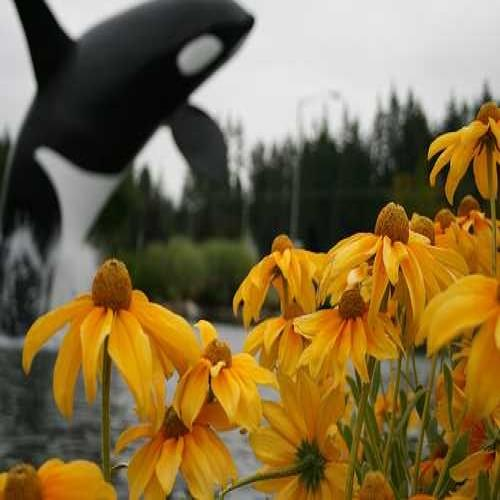killer_whale-endangered: (2, 0, 257, 283)
